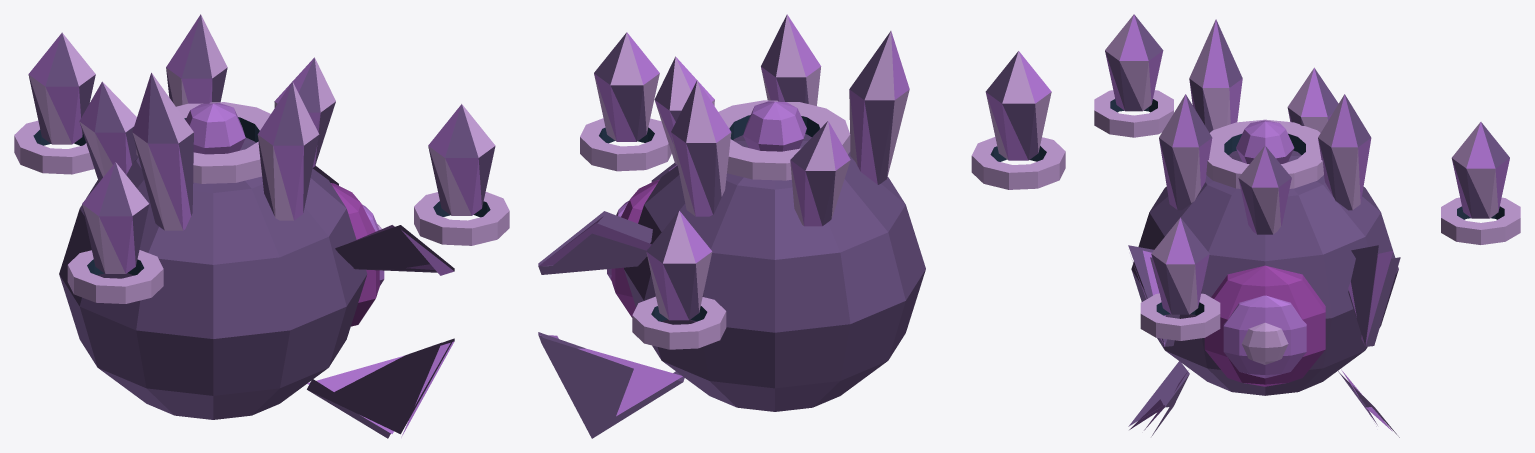
The model's file is enemy-hexer.glb.
3 views of the same model, side by side, from view 1: azimuth 30°, elevation 25°; view 2: azimuth 150°, elevation 25°; view 3: azimuth 270°, elevation 25° (orthographic). The views are drawn at different scales.
Parts seen in each view (by area): view 1: Hexer orbit crystal caster; view 2: Hexer orbit crystal caster; view 3: Hexer orbit crystal caster.
Boxes of the visible parts, left/top/right/bottom form: Hexer orbit crystal caster: left=14, top=14, right=509, bottom=438; Hexer orbit crystal caster: left=538, top=14, right=1065, bottom=438; Hexer orbit crystal caster: left=1094, top=14, right=1520, bottom=437.
Size of the model in its own units: 0.5469 by 0.4435 by 0.5099.
